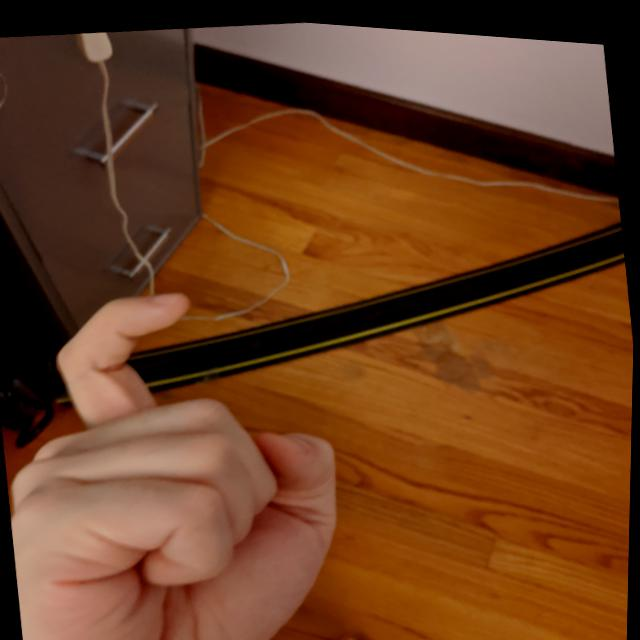X: (0, 251, 381, 639)
